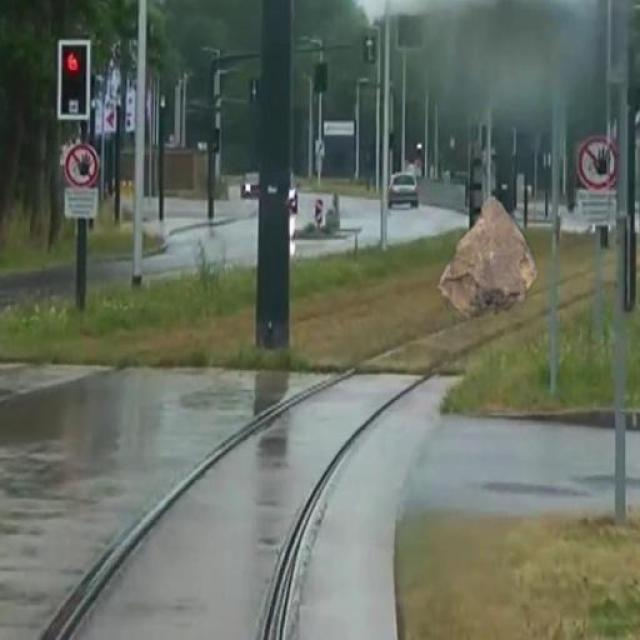Stone: (440, 193, 542, 318)
